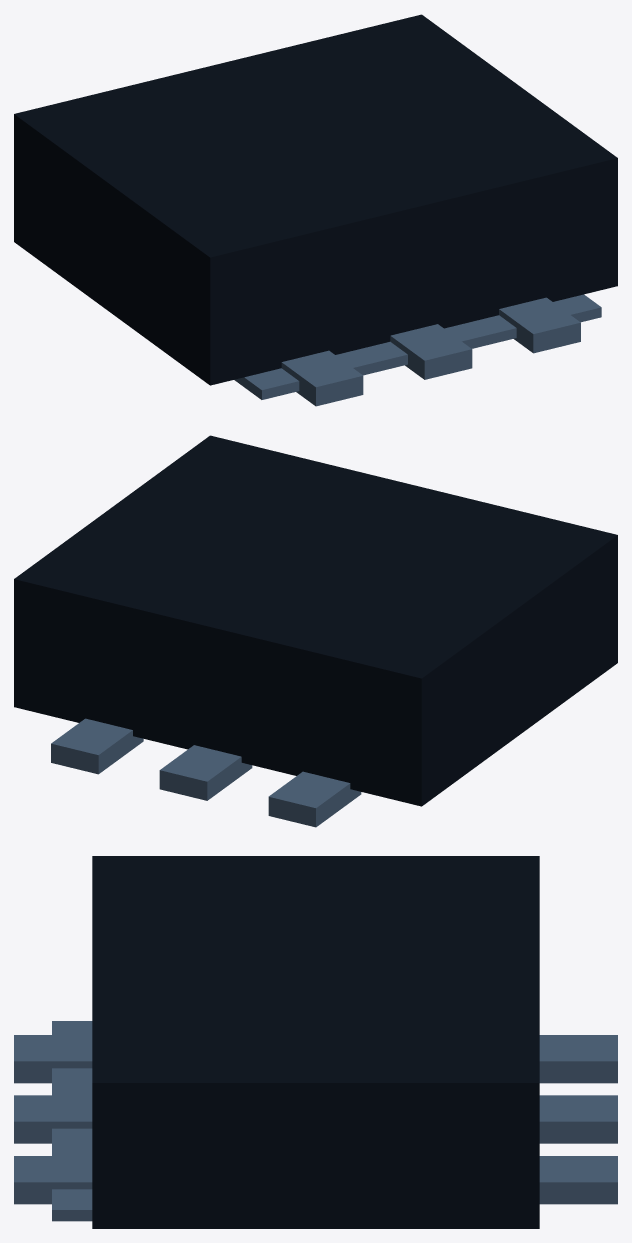
3 renders of one model, top to bottom at view 1: azimuth 30°, elevation 25°; view 2: azimuth 150°, elevation 25°; view 3: azimuth 270°, elevation 25°, orthographic. The views are drawn at different scales.
Visible parts, largest first — view 1: 013_L103_Q1; view 2: 013_L103_Q1; view 3: 013_L103_Q1.
Boxes of the visible parts, x1=… form: 013_L103_Q1: x1=14, y1=14, x2=617, y2=406; 013_L103_Q1: x1=14, y1=435, x2=617, y2=827; 013_L103_Q1: x1=14, y1=856, x2=617, y2=1228.
Size of the model in its own units: 0.6 by 0.1985 by 0.675.
